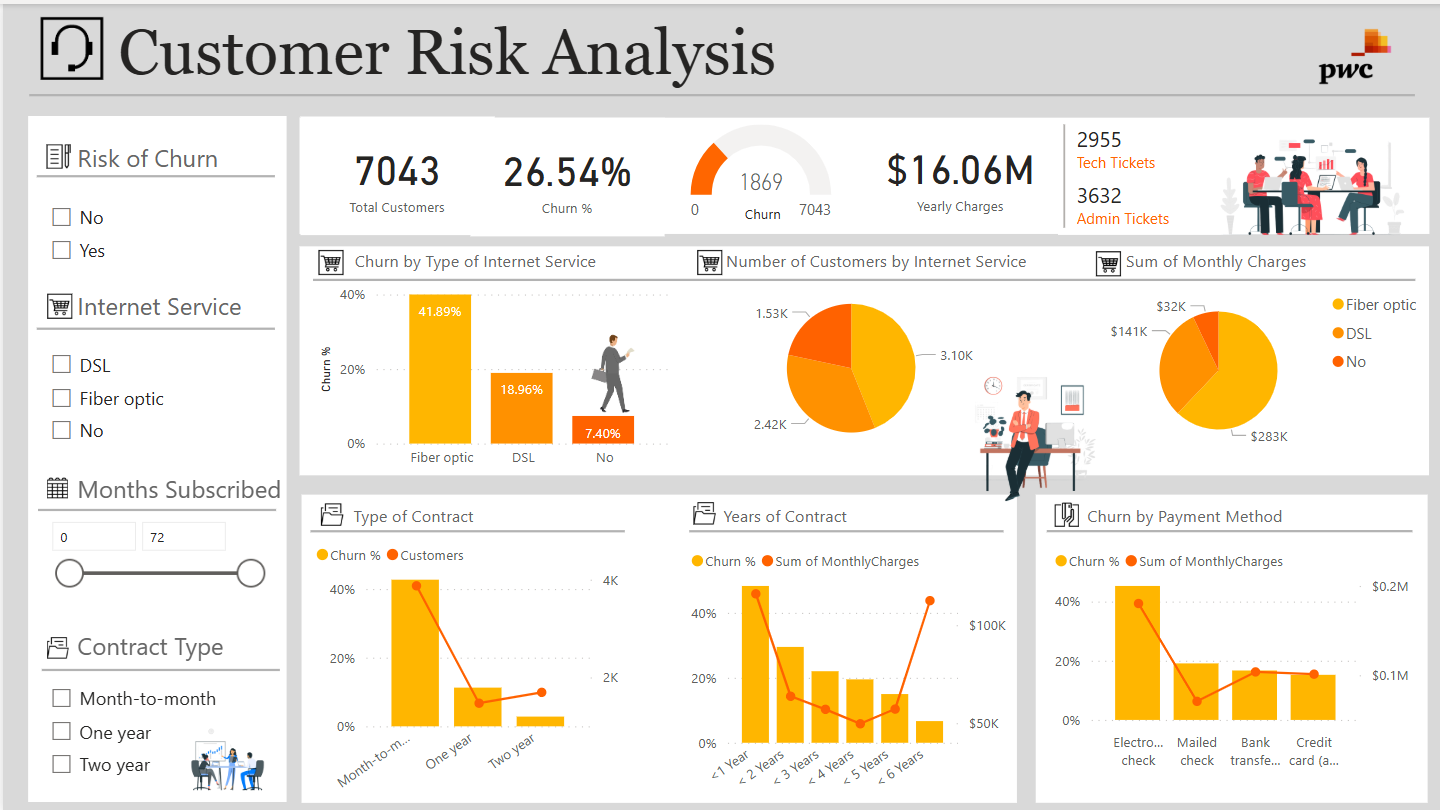

The page's visual inventory and layout, read from the dashboard file:
{"tool":"powerbi","page":{"name":"Customer Risk Analysis","canvas":[1280,720],"ordinal":1},"visuals":[{"type":"image","box":[1128.8,0,150.8,94.1],"z":0},{"type":"basicShape","box":[20,93.5,234.8,623.2],"z":1000},{"type":"textbox","box":[61.5,117,182.1,43.4],"z":2000},{"type":"textbox","box":[97.9,6.7,1164,75.7],"z":3000},{"type":"basicShape","box":[253.7,100.2,1026,105.7],"z":4000},{"type":"basicShape","box":[253.5,214,1026.7,208.1],"z":5000},{"type":"shape","box":[22.9,31.4,1233.8,100.1],"z":6000},{"type":"basicShape","box":[259.3,433.7,650.4,280.2],"z":7000,"group":"g1"},{"type":"card","fields":{"Values":["Count(01 Churn-Dataset.customerID)"]},"box":[264.9,100.2,172.5,105.7],"z":7000},{"type":"basicShape","box":[915.7,433.7,356.4,280.2],"z":8000,"group":"g1"},{"type":"group","id":"g1","title":"Group 1","box":[259.3,433.7,1012.8,280.2],"z":8000},{"type":"card","fields":{"Values":["01 Churn-Dataset.Churn %"]},"box":[416.2,101.3,172.5,105.7],"z":9000},{"type":"gauge","fields":{"MaxValue":["CountNonNull(01 Churn-Dataset.Churn)"],"Y":["01 Churn-Dataset.count of churned"]},"box":[592,102.4,165.8,100.2],"z":10000},{"type":"textbox","box":[655.5,172.5,61.2,30],"z":11000},{"type":"card","fields":{"Values":["Sum(01 Churn-Dataset.TotalCharges)"]},"box":[765.6,102.4,173.6,100.2],"z":12000},{"type":"multiRowCard","fields":{"Values":["Sum(01 Churn-Dataset.numTechTickets)","Sum(01 Churn-Dataset.numAdminTickets)"]},"box":[939.2,102.4,197,103.5],"z":13000},{"type":"shape","box":[275.6,226.7,981.4,37.2],"z":14000},{"type":"shape","box":[273.8,451.1,279.8,37.4],"z":15000},{"type":"shape","box":[929.1,451.2,325.6,37.2],"z":16000},{"type":"columnChart","fields":{"Category":["01 Churn-Dataset.InternetService"],"Y":["01 Churn-Dataset.Churn %"]},"box":[276.7,245.3,322.1,176.7],"z":17000},{"type":"textbox","box":[308.7,213.5,244.8,44.6],"z":18000},{"type":"textbox","box":[639.2,213.5,307.5,44.6],"z":19000},{"type":"textbox","box":[995.4,214,245.3,44.2],"z":20000},{"type":"image","box":[276.2,212.3,32.6,35],"z":21000},{"type":"image","box":[612.7,212.3,32.6,35],"z":22000},{"type":"image","box":[968.4,213.5,32.6,35],"z":23000},{"type":"pieChart","fields":{"Category":["01 Churn-Dataset.InternetService"],"Y":["CountNonNull(01 Churn-Dataset.InternetService)"]},"box":[607.8,244.8,295.5,159.2],"z":24000},{"type":"pieChart","fields":{"Category":["01 Churn-Dataset.InternetService"],"Y":["Sum(01 Churn-Dataset.MonthlyCharges)"]},"box":[976.9,249.6,295.5,154.4],"z":25000},{"type":"lineStackedColumnComboChart","fields":{"Y":["01 Churn-Dataset.Churn %"],"Y2":["CountNonNull(01 Churn-Dataset.customerID)"],"Category":["01 Churn-Dataset.Contract"]},"box":[273.8,470.4,279.8,243.6],"z":26000},{"type":"lineStackedColumnComboChart","fields":{"Y":["01 Churn-Dataset.Churn %"],"Category":["01 Churn-Dataset.Loyalty"],"Y2":["Sum(01 Churn-Dataset.MonthlyCharges)"]},"box":[607.8,476.4,290.7,243.6],"z":27000},{"type":"shape","box":[611.5,451.1,279.8,37.4],"z":28000},{"type":"lineStackedColumnComboChart","fields":{"Y":["01 Churn-Dataset.Churn %"],"Y2":["Sum(01 Churn-Dataset.MonthlyCharges)"],"Category":["01 Churn-Dataset.PaymentMethod"]},"box":[931.1,476.4,325.6,212.3],"z":29000},{"type":"textbox","box":[307.5,440.2,244.8,44.6],"z":30000},{"type":"image","box":[278.6,431.8,30.2,45.8],"z":31000},{"type":"textbox","box":[636.8,440.2,244.8,44.6],"z":32000},{"type":"image","box":[610.3,430.6,30.2,45.8],"z":33000},{"type":"textbox","box":[960,440.2,244.8,44.6],"z":34000},{"type":"image","box":[931.1,435.4,31.4,39.8],"z":35000},{"type":"shape","box":[30.2,135.1,212.3,37.4],"z":36000},{"type":"slicer","fields":{"Values":["01 Churn-Dataset.Churn"]},"box":[31.4,170.1,212.3,72.4],"z":37000},{"type":"textbox","box":[61.5,249.6,182.1,43.4],"z":38000},{"type":"shape","box":[30.2,270.2,212.3,37.4],"z":39000},{"type":"slicer","fields":{"Values":["01 Churn-Dataset.InternetService"]},"box":[31.4,301.5,219.5,102.5],"z":40000},{"type":"slicer","fields":{"Values":["01 Churn-Dataset.tenure"]},"box":[31.4,451.1,211.1,78.4],"z":41000},{"type":"shape","box":[31.4,431.8,212.3,37.4],"z":42000},{"type":"textbox","box":[61.2,411.7,217,43.4],"z":43000},{"type":"textbox","box":[61.5,552.4,217.1,43.4],"z":44000},{"type":"shape","box":[35,574.1,212.3,37.4],"z":45000},{"type":"slicer","fields":{"Values":["01 Churn-Dataset.Contract"]},"box":[31.4,598.2,207.4,107.3],"z":46000},{"type":"image","box":[1050.5,93.5,229.2,131.3],"z":47000},{"type":"image","box":[497.4,286,91.3,86.8],"z":48000},{"type":"image","box":[846.9,317.2,138,135.8],"z":49000},{"type":"image","box":[152.5,621,97.9,99],"z":50000},{"type":"image","box":[27.8,6.7,66.8,65.7],"z":51000},{"type":"image","box":[34.5,412.9,27.8,35.6],"z":52000},{"type":"image","box":[32.3,120.2,34.5,31.2],"z":53000},{"type":"image","box":[34.5,251.5,32.3,34.5],"z":54000},{"type":"image","box":[34.5,550.9,28.9,44.5],"z":55000}]}

Visuals, with their boxes in screenshot pixels (x1, y1, x2, y2), scaled from the page's 1280x720 canvas onto the 1440x810 screenshot:
image: (1270, 0, 1439, 106)
basicShape: (22, 105, 287, 806)
textbox: (69, 132, 274, 180)
textbox: (110, 8, 1420, 93)
basicShape: (285, 113, 1439, 232)
basicShape: (285, 241, 1439, 475)
shape: (26, 35, 1414, 148)
basicShape: (292, 488, 1023, 803)
card - Count(01 Churn-Dataset.customerID): (298, 113, 492, 232)
basicShape: (1030, 488, 1431, 803)
"Group 1" group: (292, 488, 1431, 803)
card - 01 Churn-Dataset.Churn %: (468, 114, 662, 233)
gauge - CountNonNull(01 Churn-Dataset.Churn) x 01 Churn-Dataset.count of churned: (666, 115, 853, 228)
textbox: (737, 194, 806, 228)
card - Sum(01 Churn-Dataset.TotalCharges): (861, 115, 1057, 228)
multiRowCard - Sum(01 Churn-Dataset.numTechTickets) x Sum(01 Churn-Dataset.numAdminTickets): (1057, 115, 1278, 232)
shape: (310, 255, 1414, 297)
shape: (308, 507, 623, 550)
shape: (1045, 508, 1412, 549)
columnChart - 01 Churn-Dataset.InternetService x 01 Churn-Dataset.Churn %: (311, 276, 674, 475)
textbox: (347, 240, 623, 290)
textbox: (719, 240, 1065, 290)
textbox: (1120, 241, 1396, 290)
image: (311, 239, 347, 278)
image: (689, 239, 726, 278)
image: (1089, 240, 1126, 280)
pieChart - 01 Churn-Dataset.InternetService x CountNonNull(01 Churn-Dataset.InternetService): (684, 275, 1016, 454)
pieChart - 01 Churn-Dataset.InternetService x Sum(01 Churn-Dataset.MonthlyCharges): (1099, 281, 1431, 454)
lineStackedColumnComboChart - 01 Churn-Dataset.Churn % x CountNonNull(01 Churn-Dataset.customerID): (308, 529, 623, 803)
lineStackedColumnComboChart - 01 Churn-Dataset.Churn % x 01 Churn-Dataset.Loyalty: (684, 536, 1011, 809)
shape: (688, 507, 1003, 550)
lineStackedColumnComboChart - 01 Churn-Dataset.Churn % x Sum(01 Churn-Dataset.MonthlyCharges): (1047, 536, 1414, 775)
textbox: (346, 495, 621, 545)
image: (313, 486, 347, 537)
textbox: (716, 495, 992, 545)
image: (687, 484, 721, 536)
textbox: (1080, 495, 1355, 545)
image: (1047, 490, 1083, 535)
shape: (34, 152, 273, 194)
slicer - 01 Churn-Dataset.Churn: (35, 191, 274, 273)
textbox: (69, 281, 274, 330)
shape: (34, 304, 273, 346)
slicer - 01 Churn-Dataset.InternetService: (35, 339, 282, 454)
slicer - 01 Churn-Dataset.tenure: (35, 507, 273, 596)
shape: (35, 486, 274, 528)
textbox: (69, 463, 313, 512)
textbox: (69, 621, 313, 670)
shape: (39, 646, 278, 688)
slicer - 01 Churn-Dataset.Contract: (35, 673, 269, 794)
image: (1182, 105, 1439, 253)
image: (560, 322, 662, 419)
image: (953, 357, 1108, 510)
image: (172, 699, 282, 809)
image: (31, 8, 106, 81)
image: (39, 465, 70, 505)
image: (36, 135, 75, 170)
image: (39, 283, 75, 322)
image: (39, 620, 71, 670)
